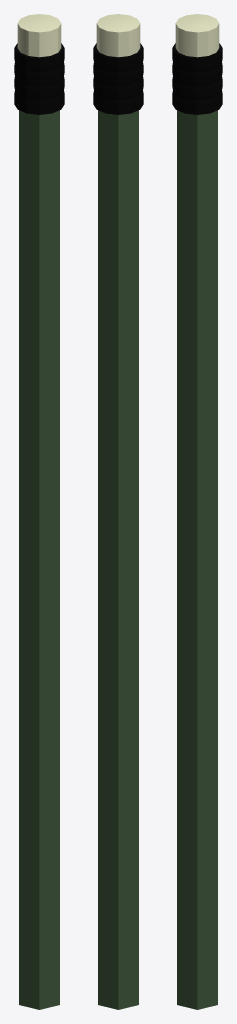
The model's file is pen.fbx.
The picture shows the model from 3 angles, left to right: view 1: azimuth 30°, elevation 25°; view 2: azimuth 150°, elevation 25°; view 3: azimuth 330°, elevation 25°; orthographic projection.
Visible parts, largest first — view 1: pCylinder8; view 2: pCylinder8; view 3: pCylinder8.
Part boxes in pixels (x1,y1,x2,y2): pCylinder8: [14, 14, 64, 1009]; pCylinder8: [93, 14, 143, 1009]; pCylinder8: [172, 14, 222, 1009].
Bounding box in the file's own units: 16.22 × 348 × 16.22.
